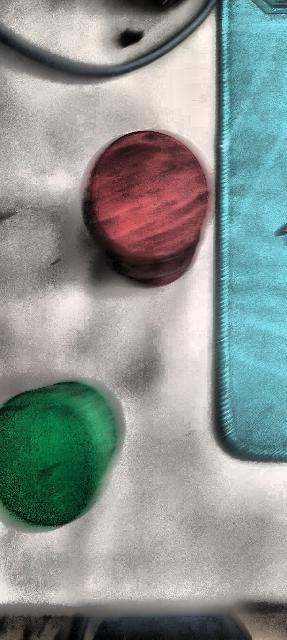blue: (215, 1, 287, 462)
green: (1, 379, 121, 531)
red: (86, 126, 230, 282)
